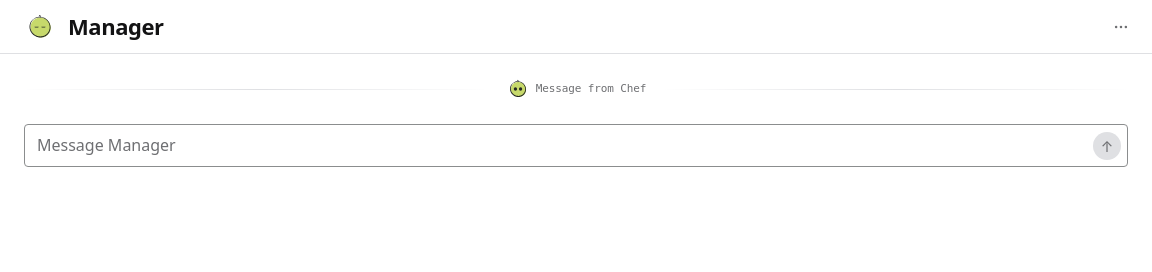
peer traffic in a channel › opens the pair's own thread when the line is clicked
Click the button "Message from Chef" at (576, 89), box [501,74,651,104]
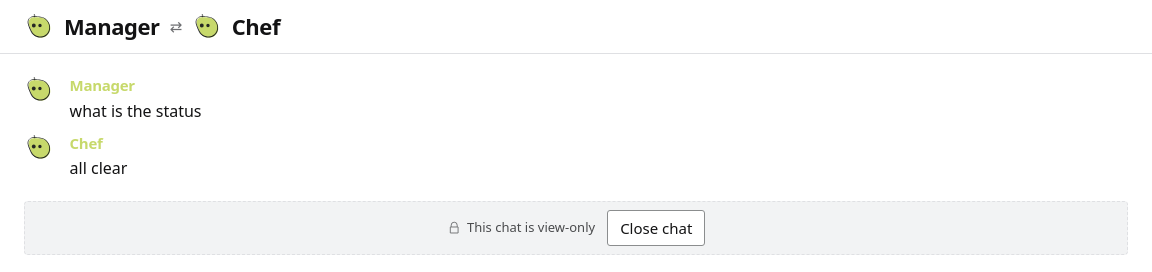
Expected: the text "what is the status" is shown, [70,100,202,122]
Expected: the text "all clear" is shown, [70,157,127,179]
Expected: the text "This chat is view-only" is shown, [447,218,595,238]
